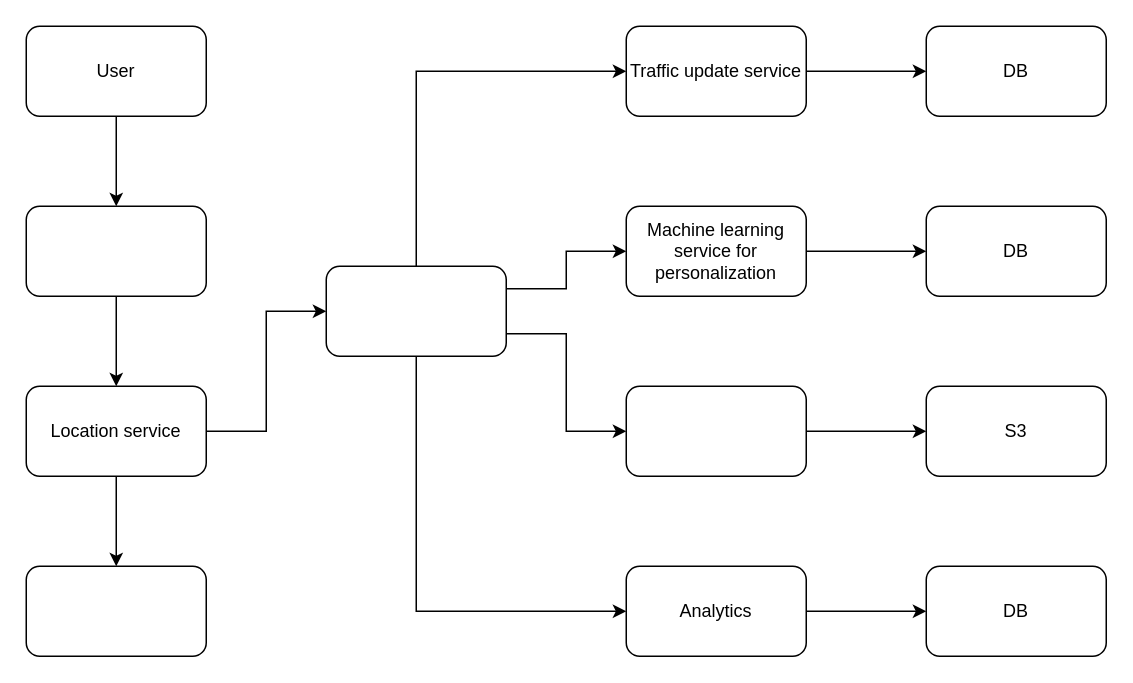
Image size: 1133x683. Some labels were removed from this diagram. The centre of each missing label's shape, as x and y in pixels:
"Kafka" belongs at point 415,310.
"Load balancer" belongs at point 115,250.
"Tile processing service" belongs at point 715,430.
"User location DB" belongs at point 115,610.
